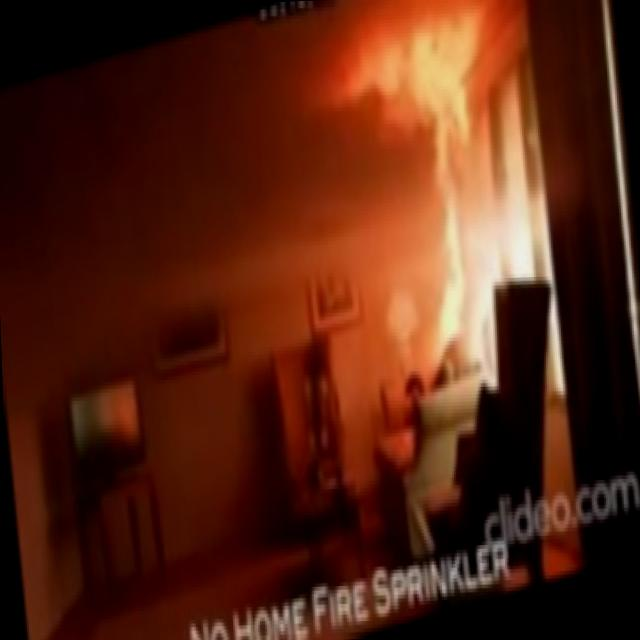fire: (298, 0, 547, 446)
